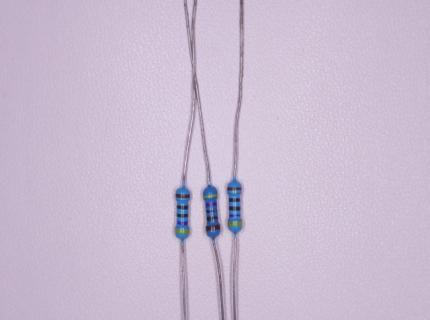Black band: (206, 215, 218, 221), (229, 206, 240, 212), (206, 209, 218, 214), (229, 198, 240, 203), (177, 205, 188, 210), (177, 214, 188, 218)
Brown band: (205, 223, 221, 231), (227, 187, 242, 192), (176, 194, 190, 199)
Violet band: (205, 201, 217, 208), (176, 220, 188, 225), (229, 214, 240, 218)
Yellow band: (175, 228, 190, 234), (228, 221, 242, 227), (203, 194, 218, 199)
